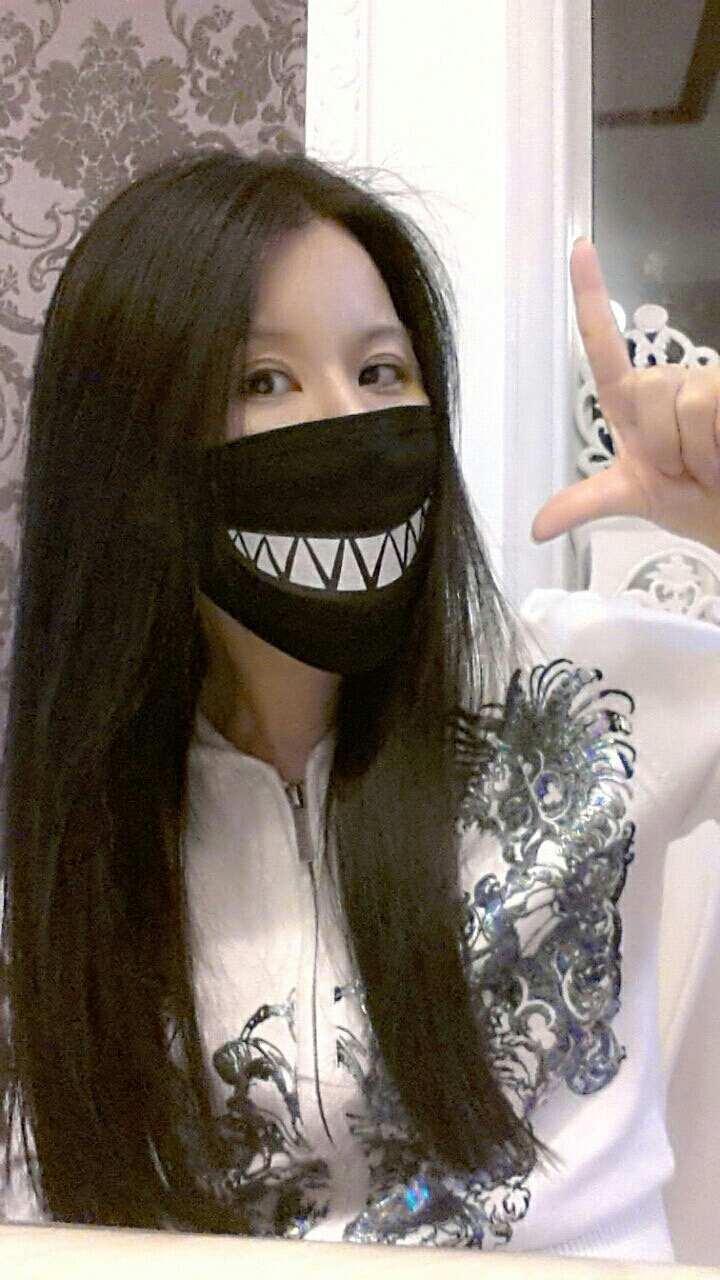face_mask: (209, 211, 433, 668)
